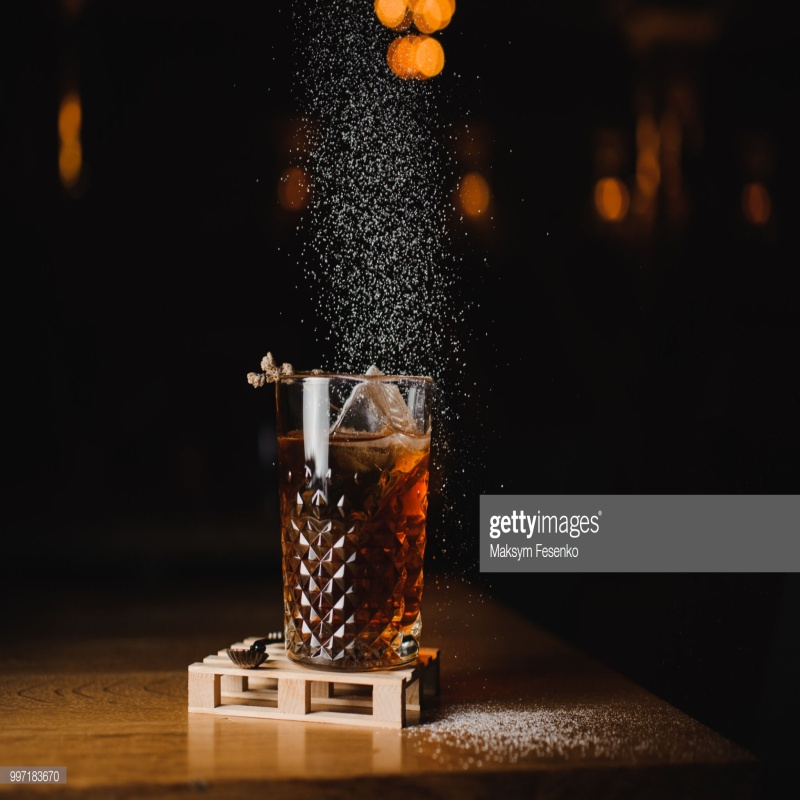whiskey: (244, 366, 431, 662)
